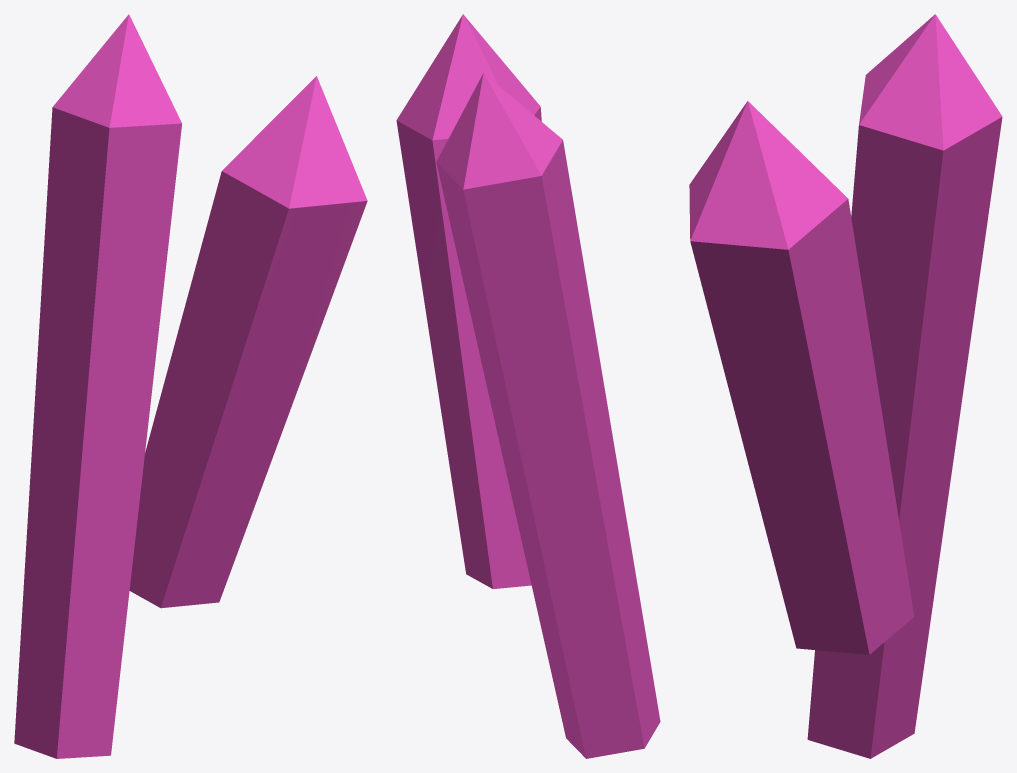
The model's file is small_crystals_1_1.fbx.
3 renders of one model, left to right at view 1: azimuth 30°, elevation 25°; view 2: azimuth 150°, elevation 25°; view 3: azimuth 270°, elevation 25°, orthographic. The views are drawn at different scales.
Parts seen in each view (by area): view 1: crystals_kom2; view 2: crystals_kom2; view 3: crystals_kom2.
Part boxes in pixels (x1,y1,x2,y2): crystals_kom2: (14,14,367,758); crystals_kom2: (396,14,660,758); crystals_kom2: (689,14,1002,758).
Size of the model in its own units: 74.2 by 166 by 60.74.
